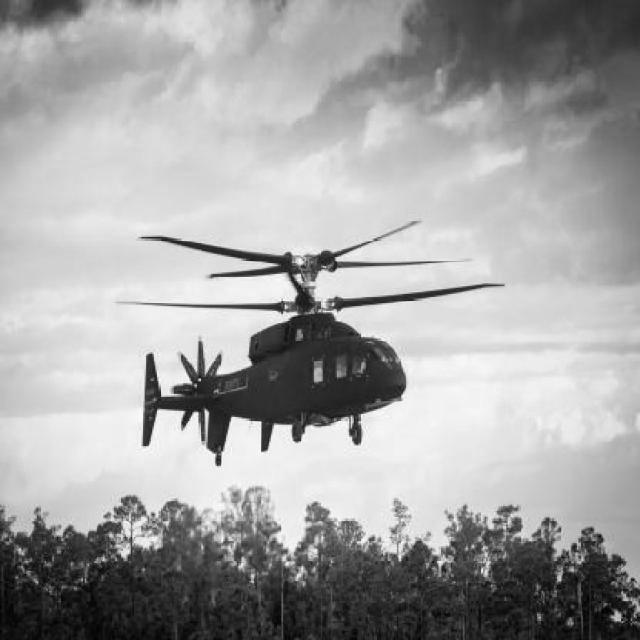helikopter: (108, 214, 507, 468)
